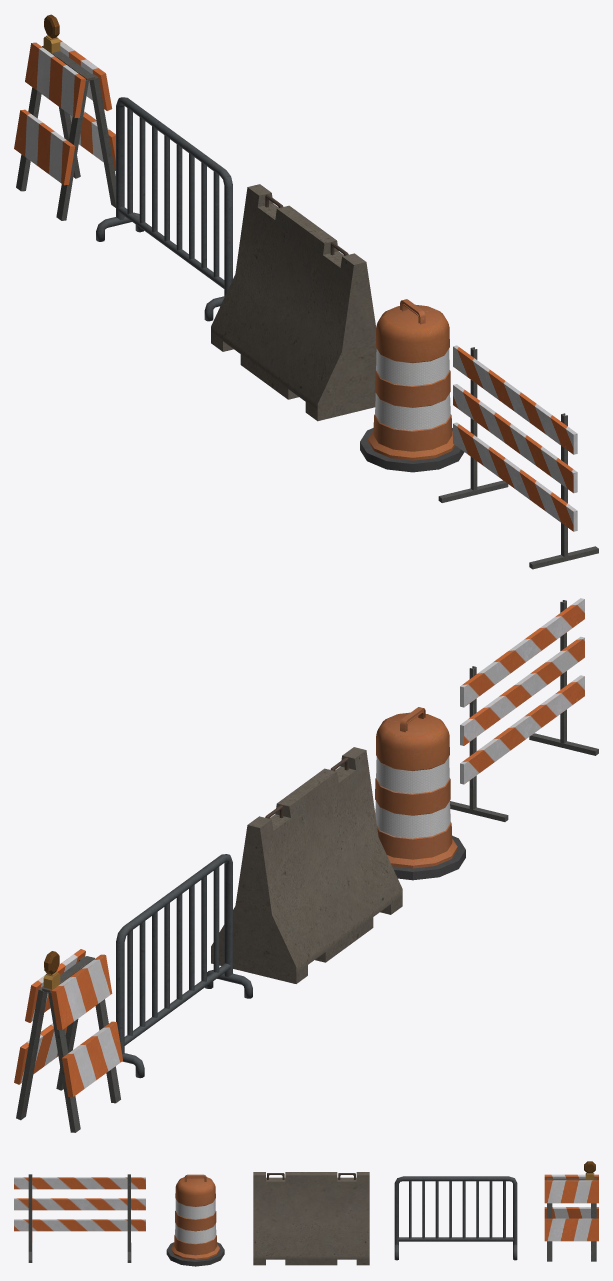
The model's file is props.glb.
3 views of the same model, one above another, from view 1: azimuth 30°, elevation 25°; view 2: azimuth 150°, elevation 25°; view 3: azimuth 270°, elevation 25° (orthographic). The views are drawn at different scales.
Parts seen in each view (by area): view 1: jersey_barrier, traffic_cone_tall, traffic_sign, traffic_sign.002, Cube.009; view 2: jersey_barrier, traffic_cone_tall, traffic_sign, traffic_sign.002, Cube.009; view 3: jersey_barrier, traffic_sign, traffic_sign.002, traffic_cone_tall, Cube.009.
Part boxes in pixels (<box>): jersey_barrier: <box>211,184,376,421</box>; traffic_cone_tall: <box>360,299,464,472</box>; traffic_sign: <box>438,345,598,569</box>; traffic_sign.002: <box>14,14,115,220</box>; Cube.009: <box>96,97,232,321</box>; jersey_barrier: <box>211,747,402,983</box>; traffic_cone_tall: <box>375,707,465,880</box>; traffic_sign: <box>450,598,598,821</box>; traffic_sign.002: <box>14,949,122,1132</box>; Cube.009: <box>116,854,252,1078</box>; jersey_barrier: <box>253,1172,369,1265</box>; traffic_sign: <box>14,1174,145,1262</box>; traffic_sign.002: <box>544,1161,598,1261</box>; traffic_cone_tall: <box>166,1174,224,1266</box>; Cube.009: <box>394,1176,517,1260</box>.
Bounding box in the file's own units: 152 × 268 × 1537.
Materials: 5 (5 with a texture image).
